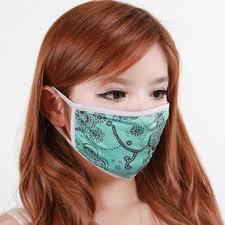OK: (73, 71, 174, 172)
